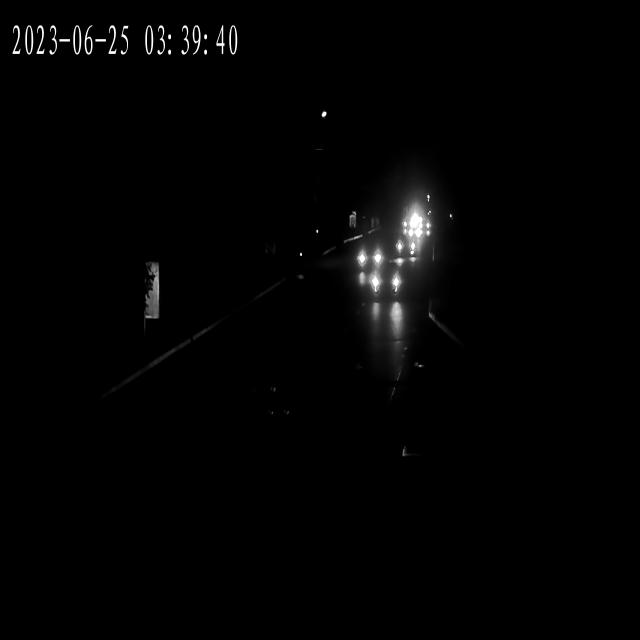Car: (371, 263, 406, 311), (358, 234, 384, 282), (392, 238, 413, 271), (405, 209, 423, 238)
